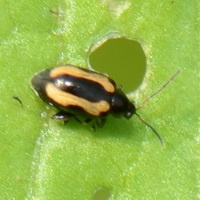insect: (32, 65, 162, 143)
